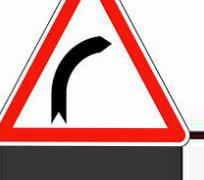right: (1, 1, 190, 146)
